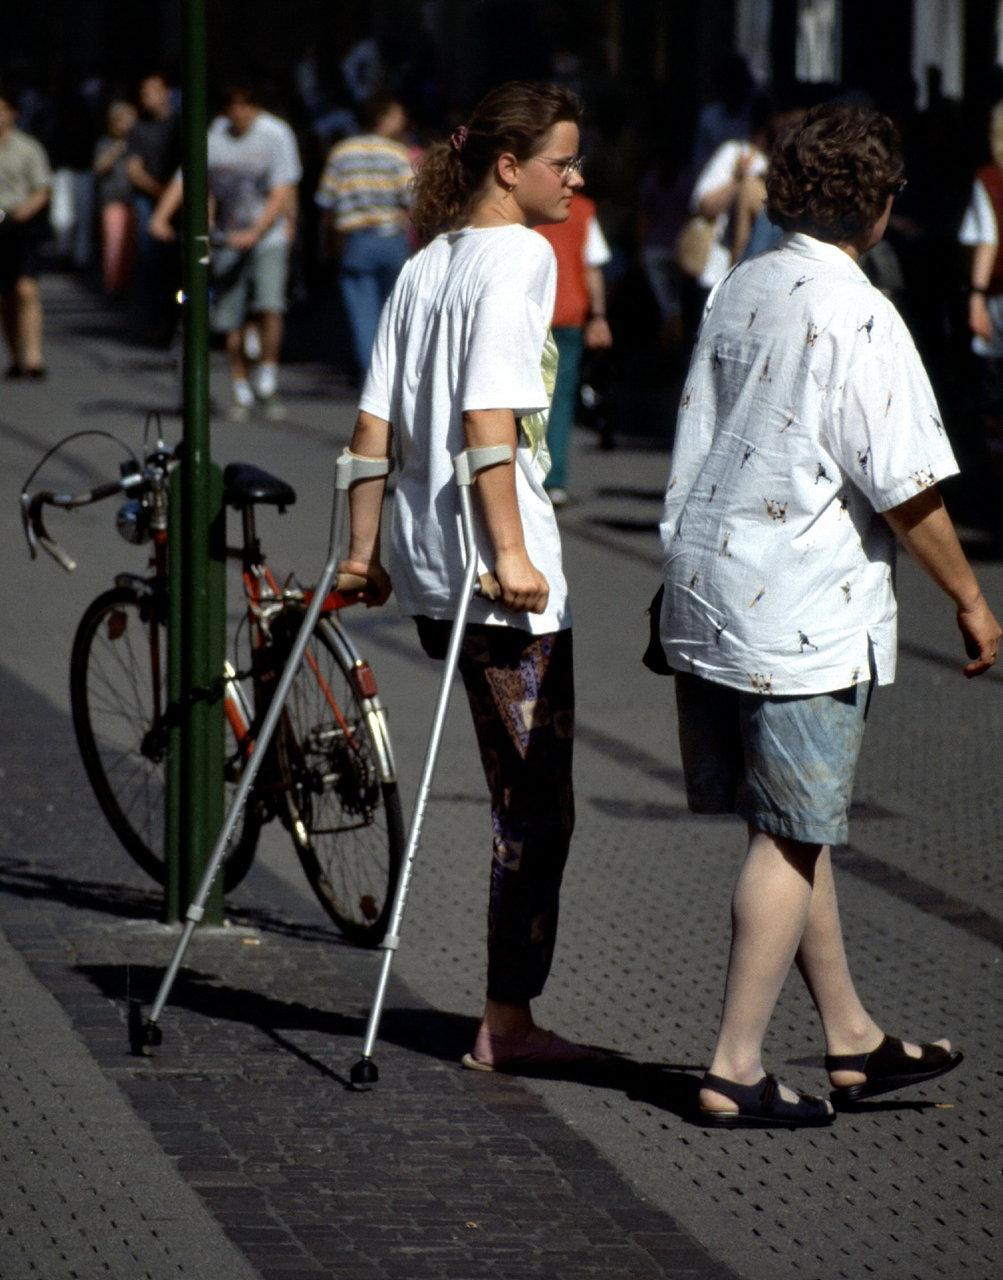crutches: (122, 48, 621, 1146)
